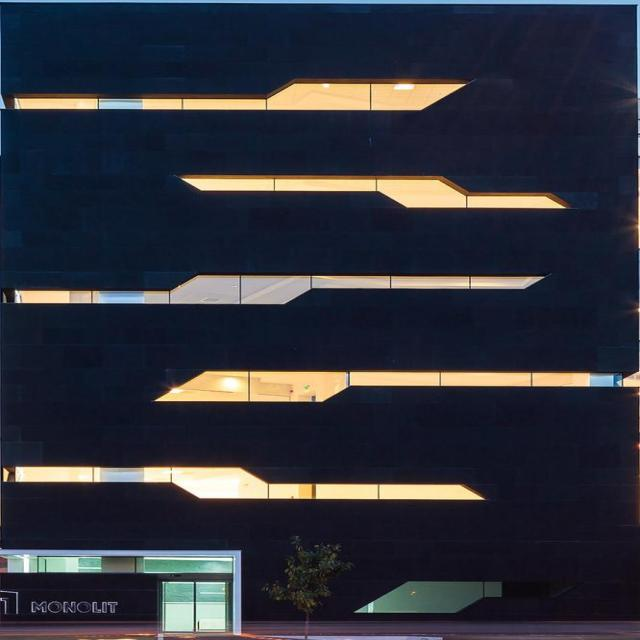door: (162, 574, 234, 638)
wall: (0, 4, 639, 634)
windows: (12, 465, 490, 503), (14, 274, 548, 307), (153, 371, 620, 404), (13, 80, 466, 110), (180, 178, 571, 209), (355, 581, 505, 612)
